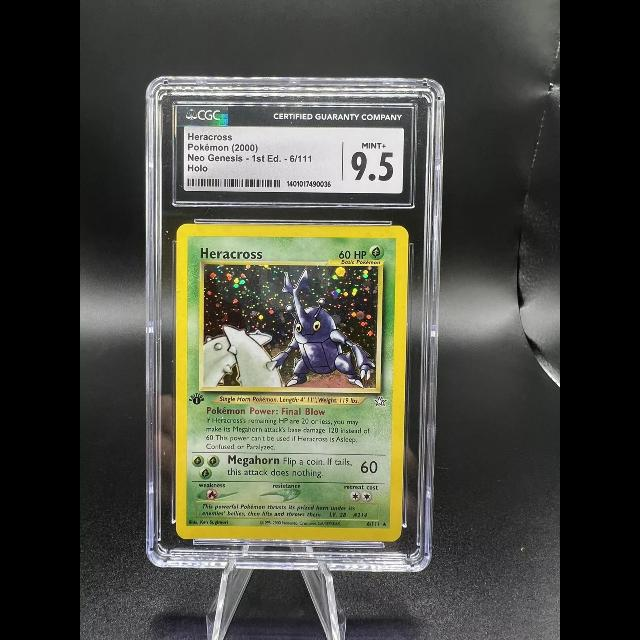card: (175, 223, 410, 542)
cgc_label: (176, 105, 413, 204)
cgc_slab: (145, 76, 446, 574)
